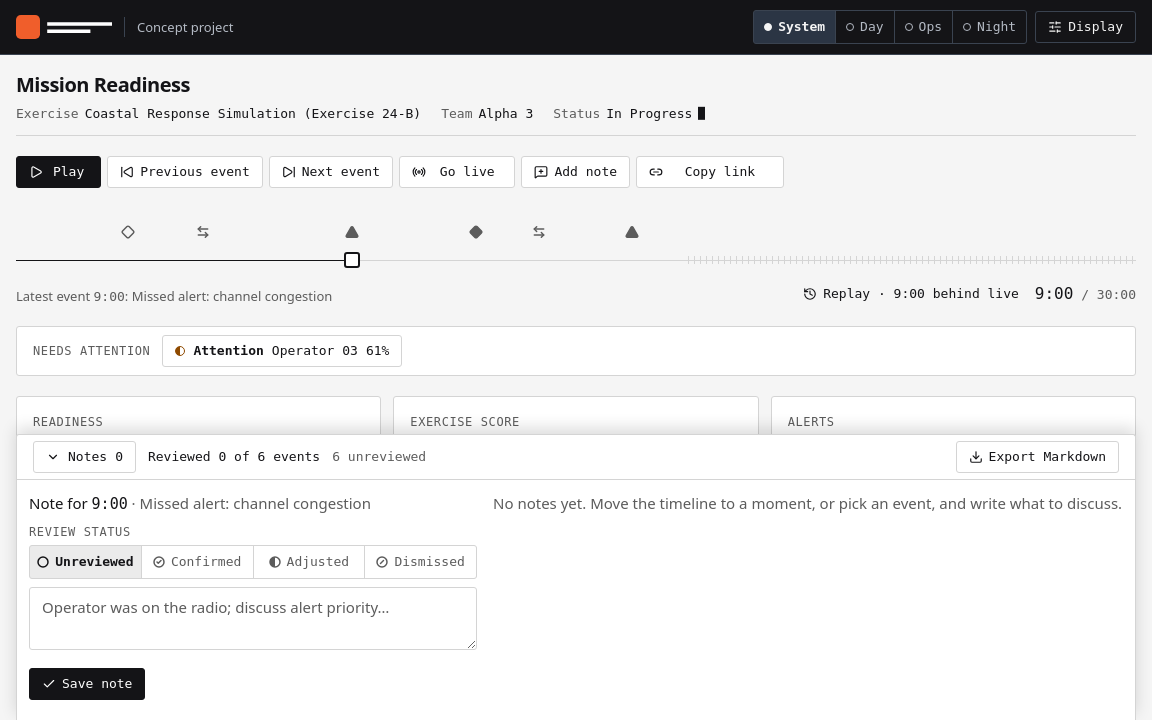
review status › applies immediately, shows on the event row and in the summary, and says so
What coordinates should you click on to do the following:
click the radio button labelled "Confirmed"
I would click on:
 (197, 562)
Its box is [142, 546, 253, 578].
(page scrolled)
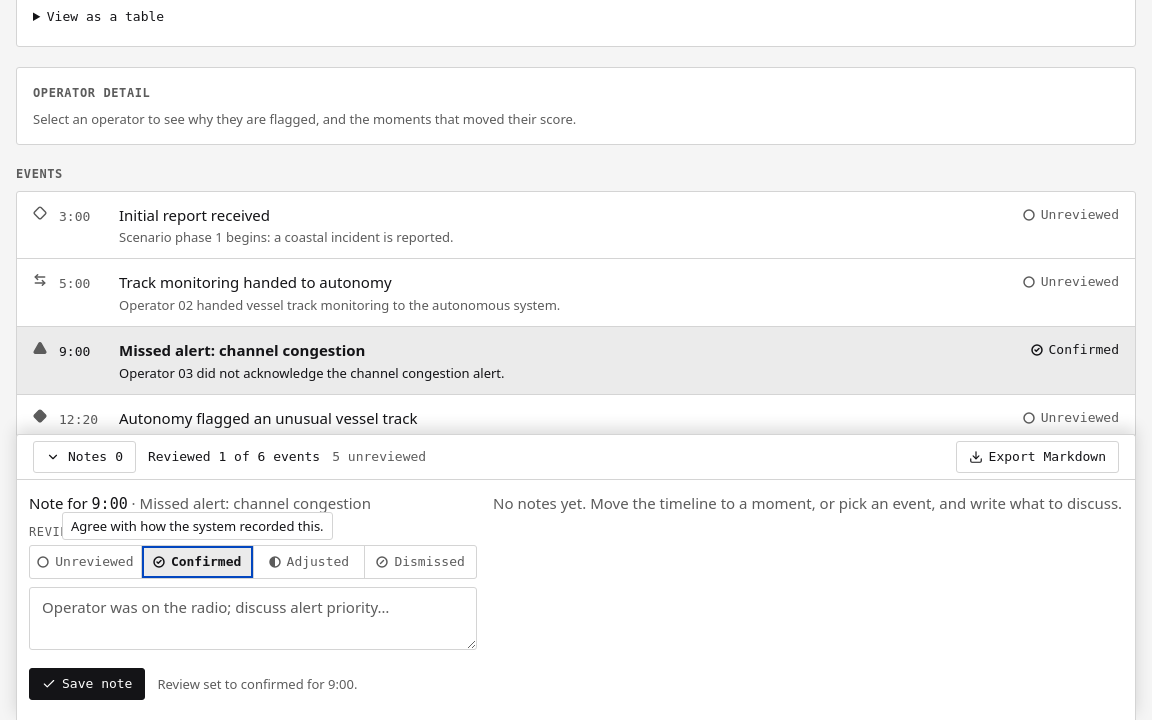
Check: the radio button labelled "Confirmed" is checked, box [142, 546, 253, 578]
Check: the text "Review set to confirmed for 9:00." is shown, box [158, 675, 357, 693]
Check: the text "Reviewed 1 of 6 events" is shown, box [148, 448, 320, 466]
